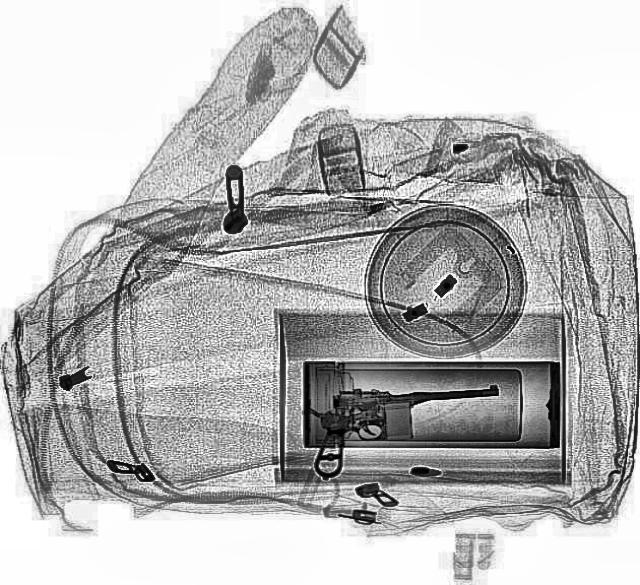Gun: (306, 383, 499, 479)
